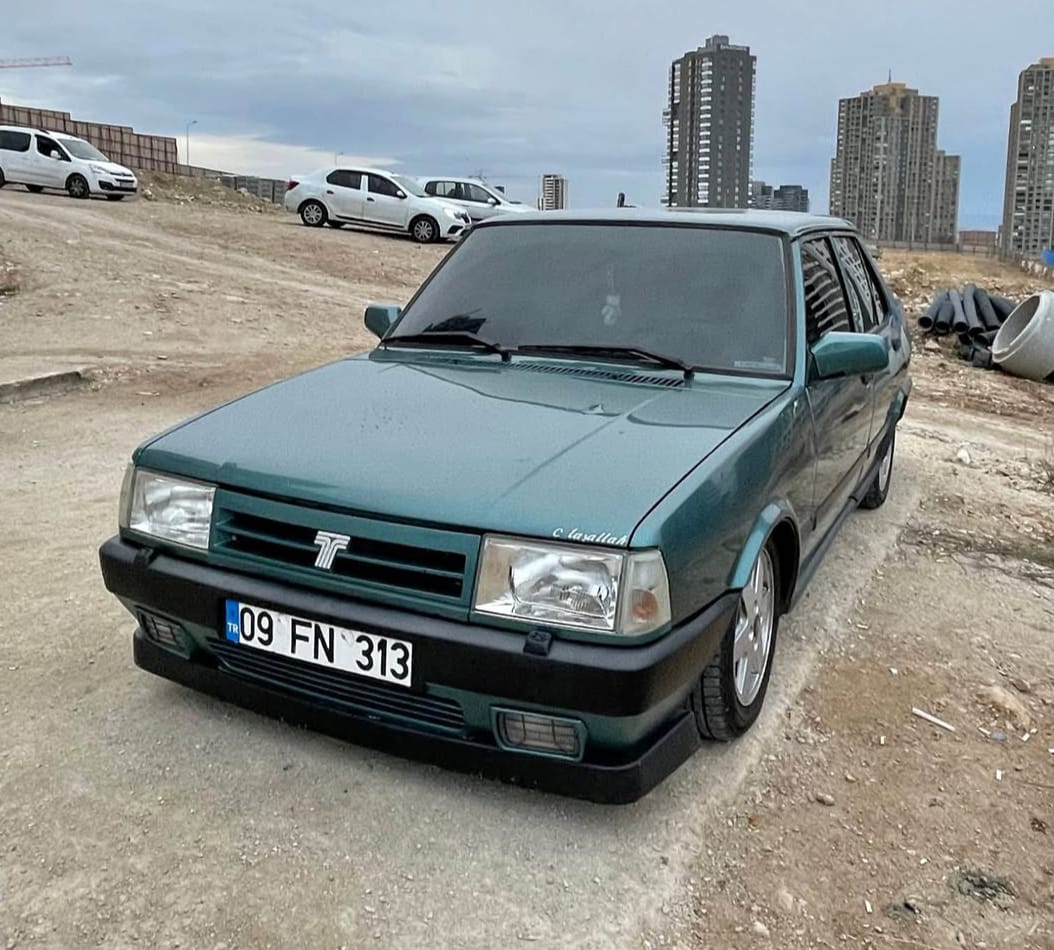plaka: (229, 595, 417, 693)
